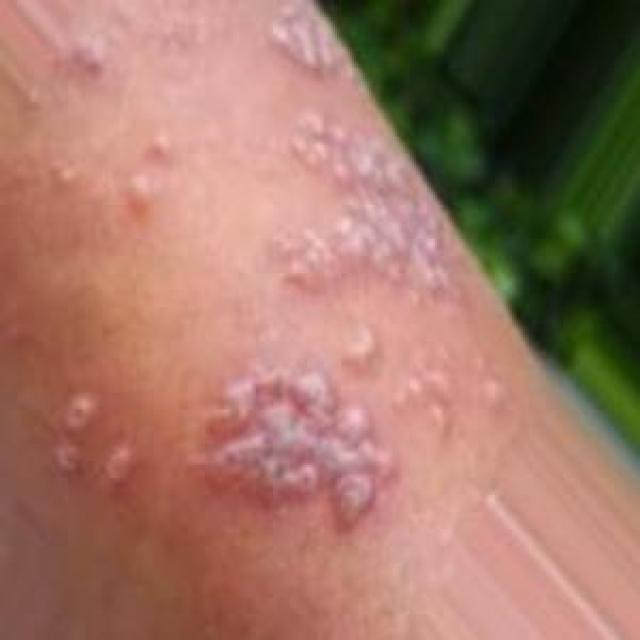Shingles: (275, 113, 452, 301), (195, 371, 401, 528), (56, 391, 131, 486), (266, 4, 348, 77)
